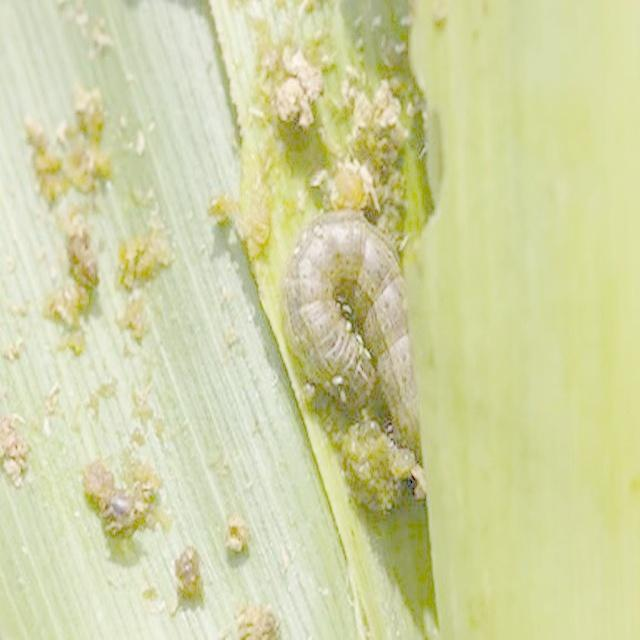pest: (288, 215, 420, 440)
